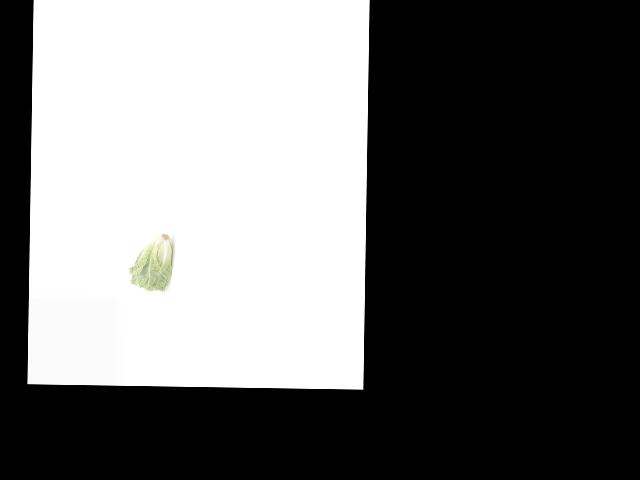lettuce: (128, 230, 174, 291)
